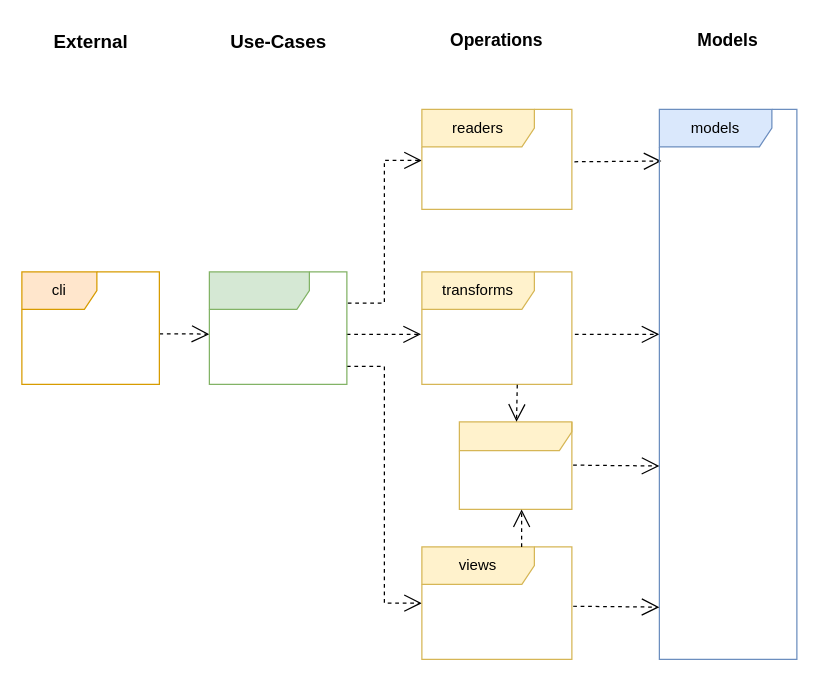
This 819x681 diagram has some shape labels left out. The shapes that lost their labels are listed below. From the top down, each one's box as (x1, y1, x2, y2) in pixels, then its label:
(208, 271, 347, 384): use_cases
(458, 421, 572, 509): model_ops
